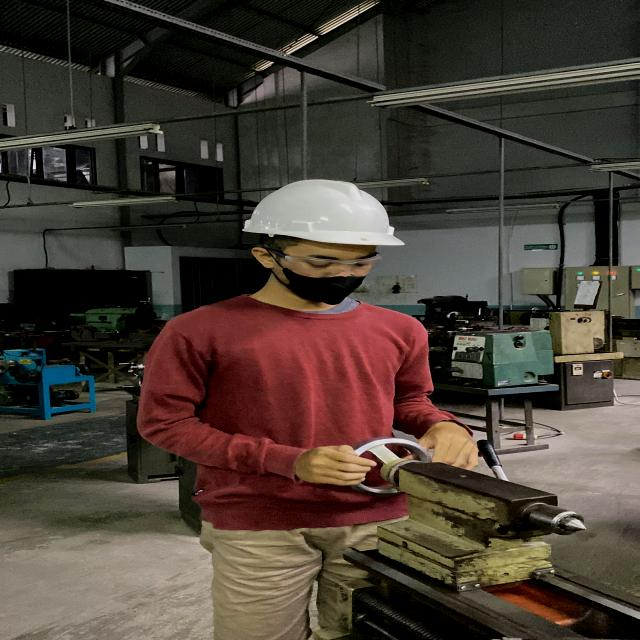face_mask: (272, 248, 380, 307)
glasses: (274, 252, 384, 278)
hand_noglove: (292, 443, 382, 492), (414, 422, 492, 473)
head_helmet: (237, 177, 412, 244)
person: (134, 172, 486, 640)
